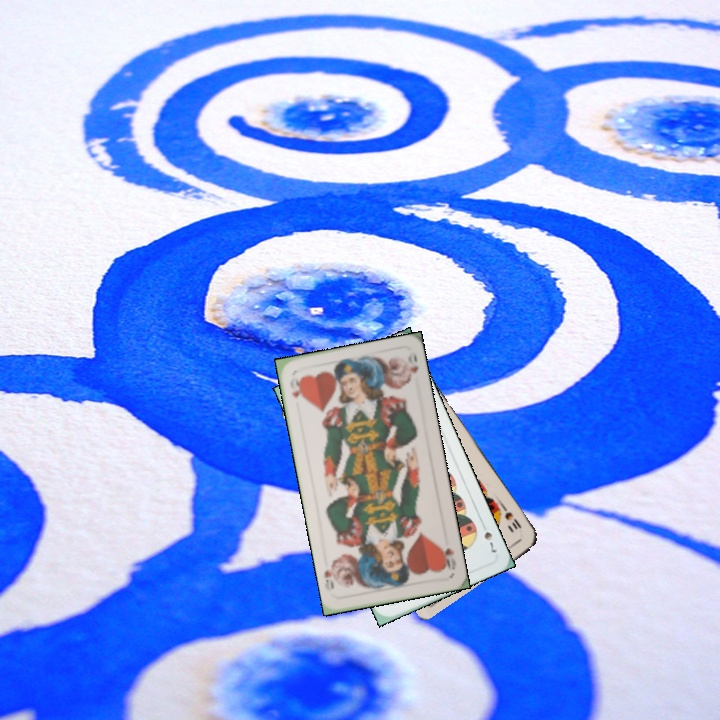HO: (437, 542, 459, 573), (288, 372, 306, 402)
S10: (498, 501, 524, 532)
S7: (480, 527, 499, 555)
